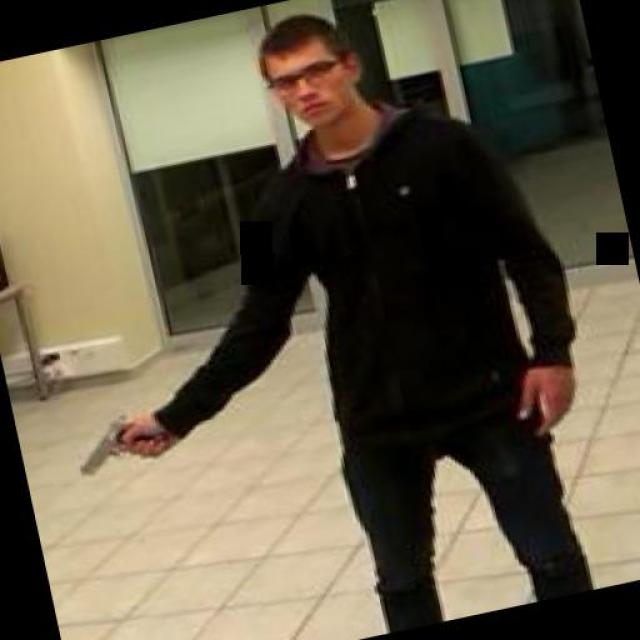gun: (61, 406, 164, 482)
